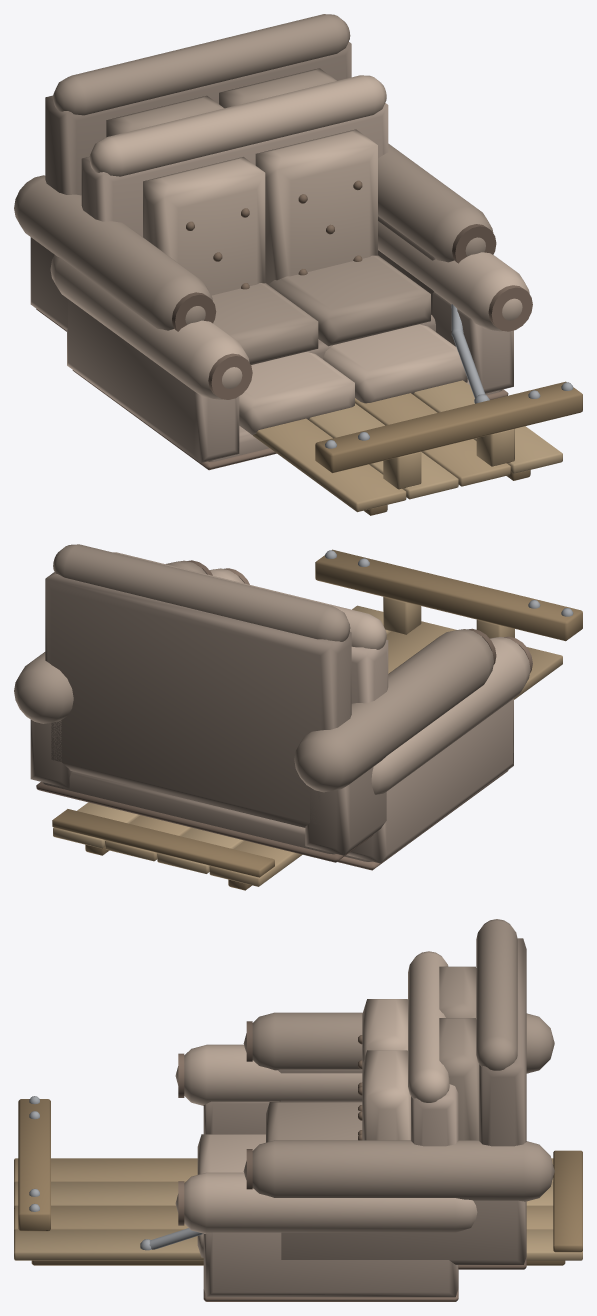
File: couch.glb
The picture shows the model from 3 angles, top to bottom: view 1: azimuth 30°, elevation 25°; view 2: azimuth 150°, elevation 25°; view 3: azimuth 270°, elevation 25°; orthographic projection. The views are drawn at different scales.
Parts seen in each view (by area): view 1: couch_sig, couch, couch_wreck; view 2: couch, couch_sig, couch_wreck; view 3: couch, couch_sig, couch_wreck.
Part boxes in pixels (x1,y1,x2,y2): couch_sig: [50, 75, 532, 470]; couch: [14, 14, 582, 515]; couch_wreck: [252, 304, 582, 515]; couch: [14, 544, 580, 890]; couch_sig: [113, 552, 532, 870]; couch_wreck: [52, 550, 582, 890]; couch: [14, 919, 582, 1269]; couch_sig: [175, 951, 477, 1301]; couch_wreck: [14, 1096, 582, 1252].
Bounding box in the file's own units: 1.23 × 0.96 × 1.92.
